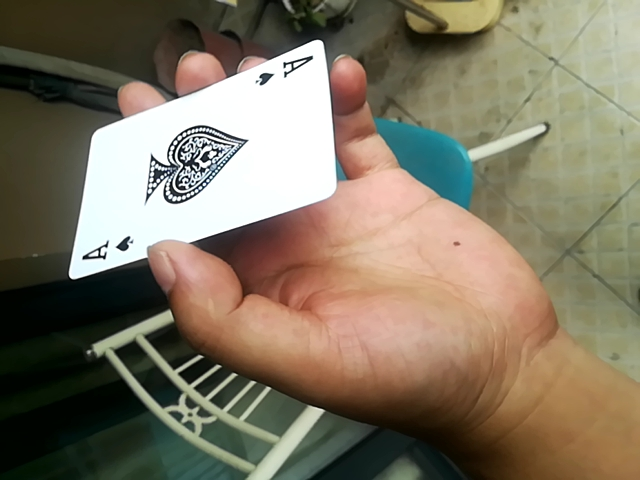ht a: (65, 38, 338, 289)
